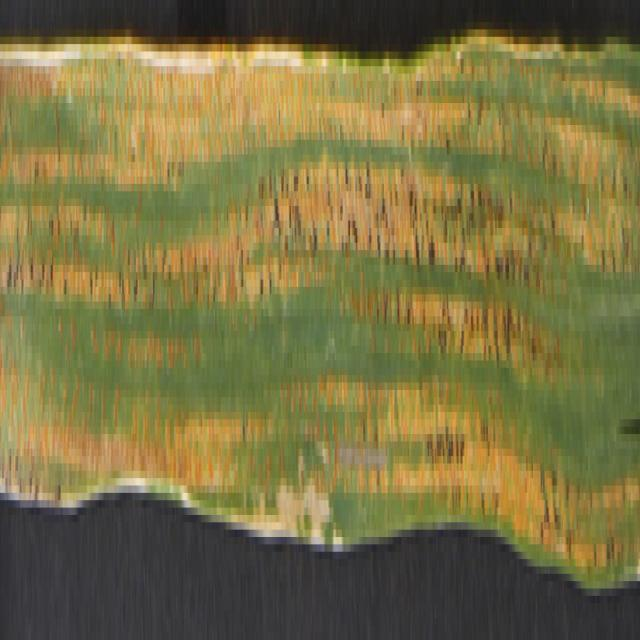leaf rust: (1, 7, 640, 552)
